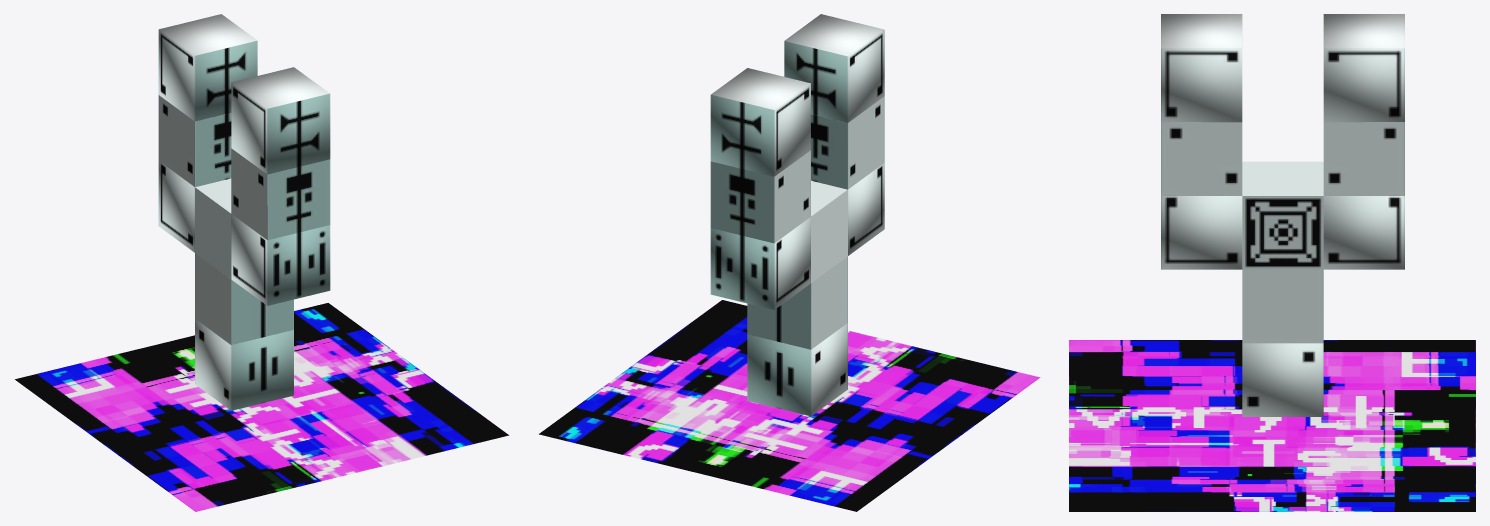
Rendered from Monolith_Act2.glb.
The picture shows the model from 3 angles, left to right: view 1: azimuth 30°, elevation 25°; view 2: azimuth 150°, elevation 25°; view 3: azimuth 270°, elevation 25°; orthographic projection. The views are drawn at different scales.
Parts seen in each view (by area): view 1: Cube_Monolith (×9), GlitchEffect; view 2: Cube_Monolith (×9), GlitchEffect; view 3: GlitchEffect, Cube_Monolith (×9).
Part boxes in pixels (bbox=[...]): Cube_Monolith (×9): bbox=[158, 14, 330, 410]; GlitchEffect: bbox=[15, 303, 509, 511]; Cube_Monolith (×9): bbox=[710, 14, 884, 416]; GlitchEffect: bbox=[539, 300, 1040, 511]; GlitchEffect: bbox=[1069, 340, 1475, 511]; Cube_Monolith (×9): bbox=[1161, 14, 1404, 416].
Size of the model in its own units: 3 by 3.16 by 3.
Materials: 3 (3 with a texture image).
